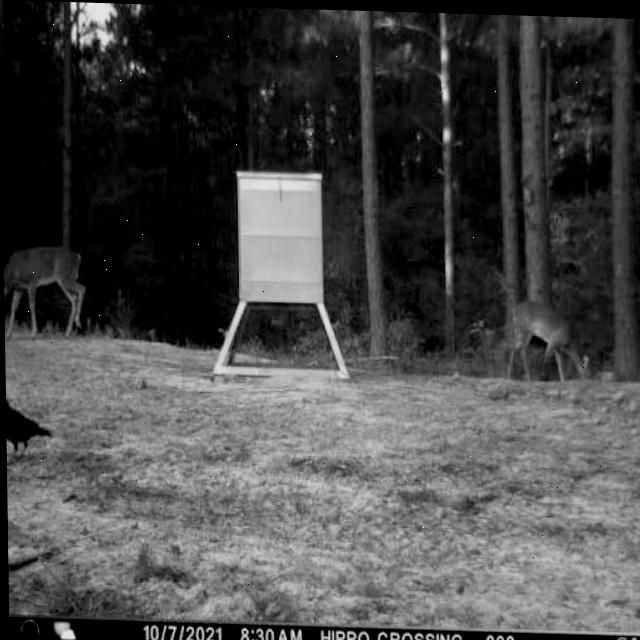Deer: (501, 291, 599, 396), (4, 235, 96, 340)
